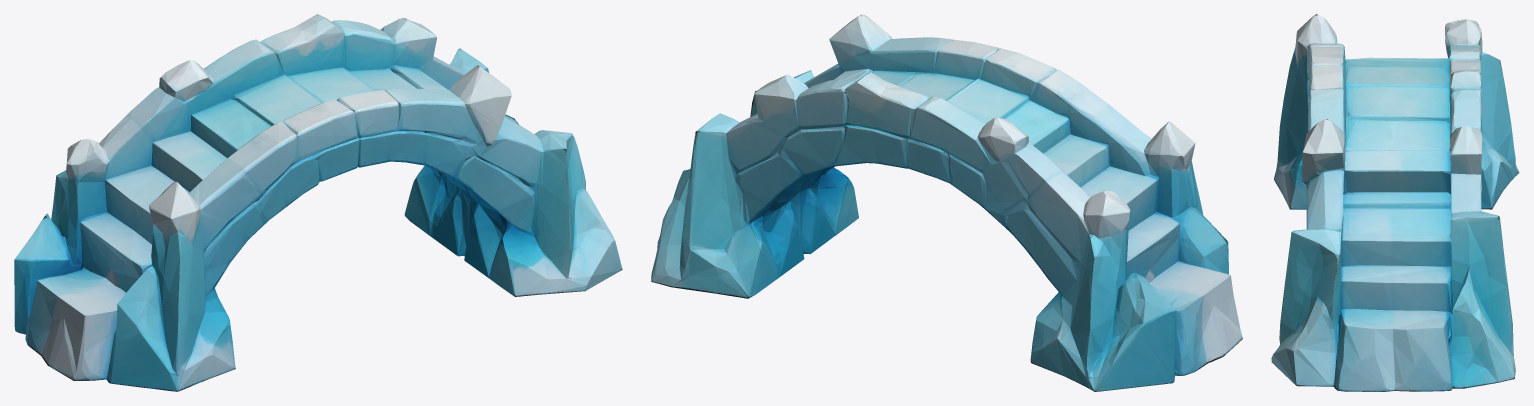
File: ice_bridge.glb
The picture shows the model from 3 angles, left to right: view 1: azimuth 30°, elevation 25°; view 2: azimuth 150°, elevation 25°; view 3: azimuth 270°, elevation 25°; orthographic projection. The views are drawn at different scales.
Parts seen in each view (by area): view 1: world; view 2: world; view 3: world.
Boxes of the visible parts, box(x1,y1,x2,y2) form: world: box(14, 14, 622, 391); world: box(651, 14, 1242, 391); world: box(1271, 14, 1519, 391).
Bounding box in the file's own units: 0.9969 × 0.4208 × 0.4256.
1 material, 1 textured.
